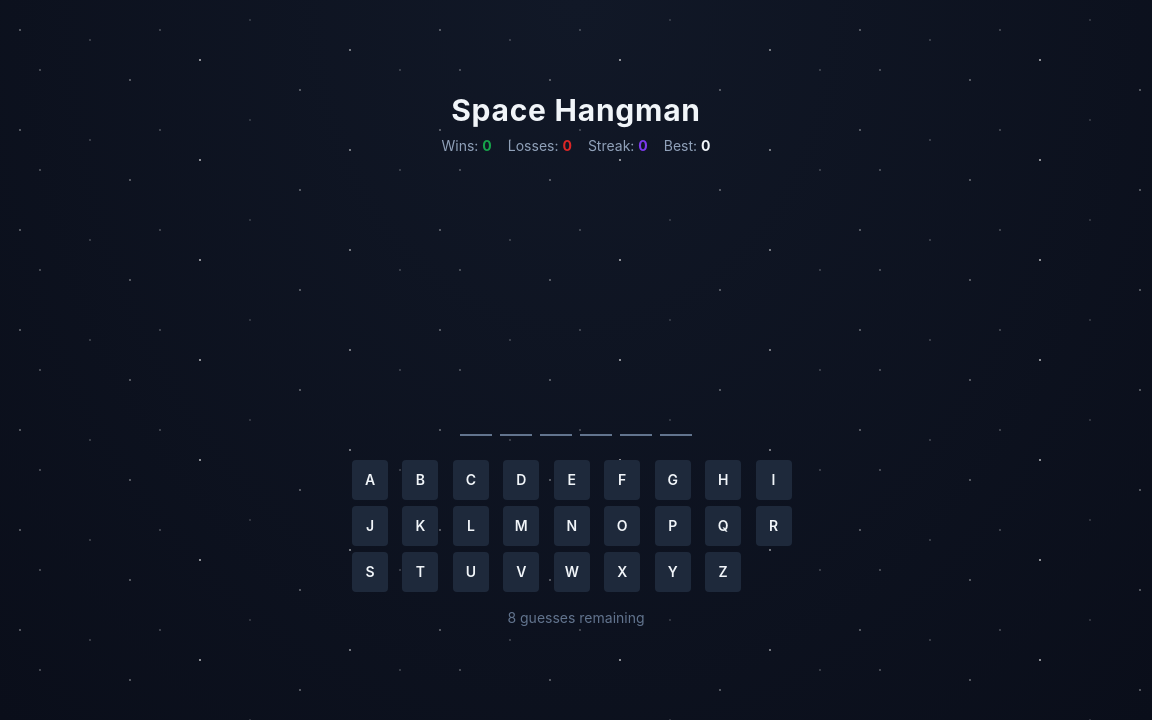
Test case: Game › reveals letter on correct guess click
This screenshot has width=1152, height=720.
Click the button "N": (572, 526) [554,506,590,546]
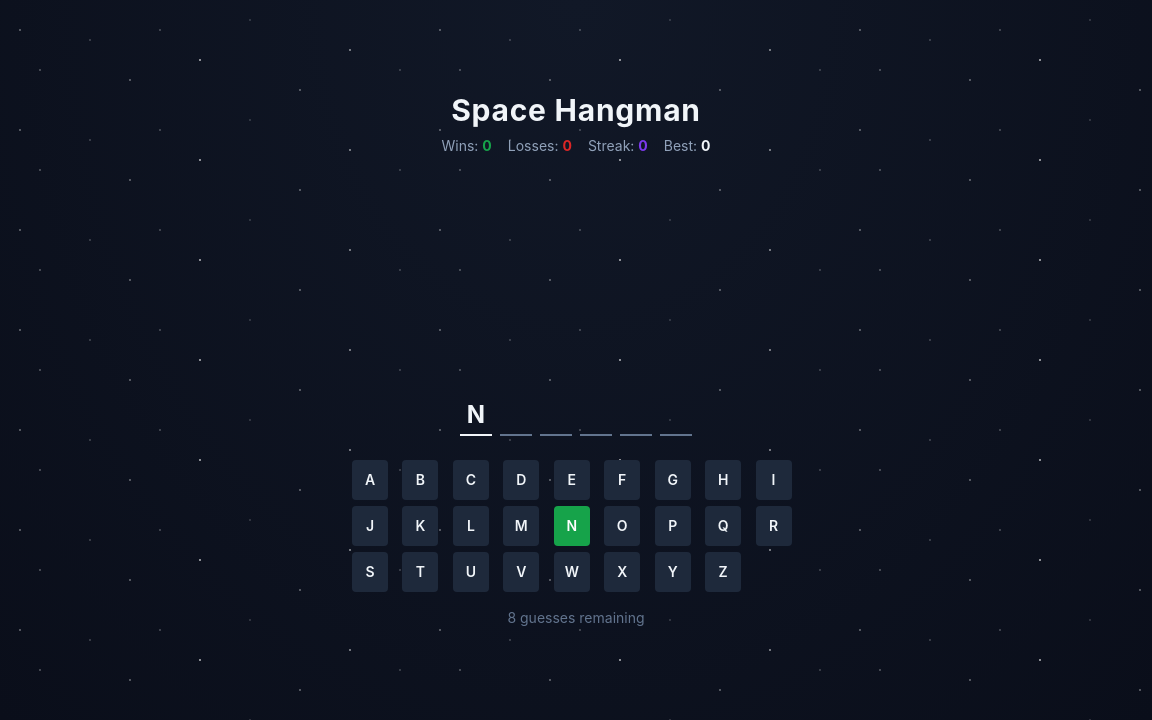
Result: the element named "Word to guess" reads "N" at [467,400,485,429]
